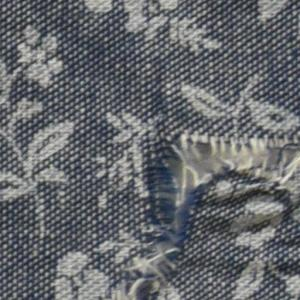Damage: (128, 115, 300, 300)
